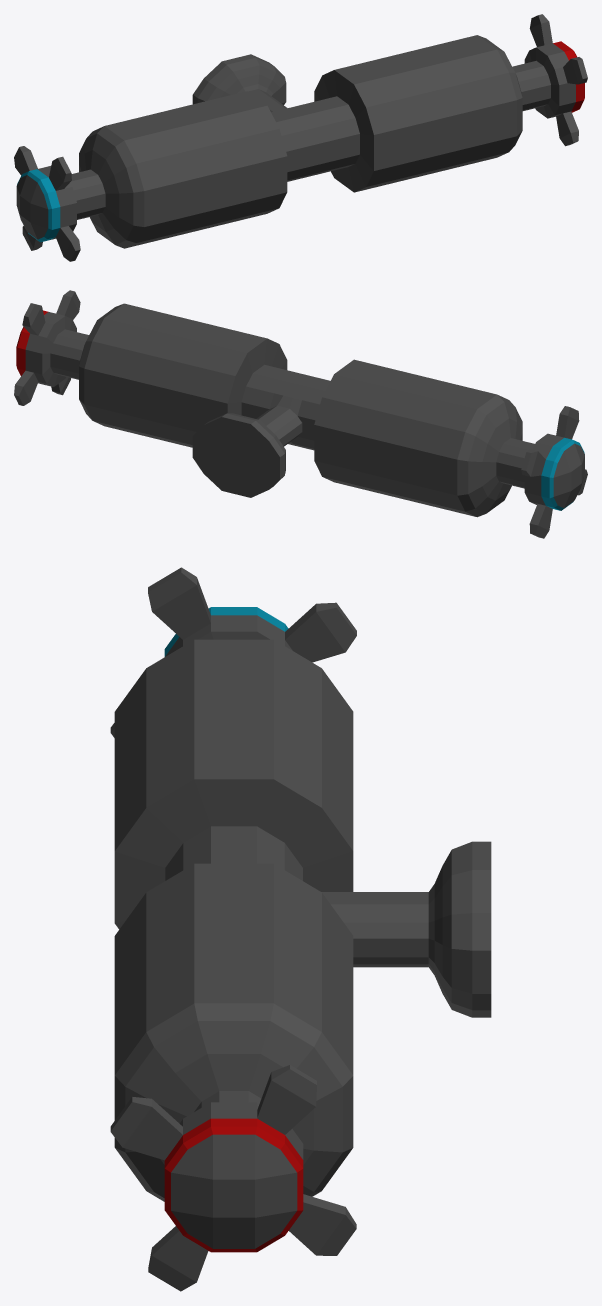
File: grifo_ducha.fbx
3 views of the same model, one above another, from view 1: azimuth 30°, elevation 25°; view 2: azimuth 150°, elevation 25°; view 3: azimuth 270°, elevation 25° (orthographic). The views are drawn at different scales.
Visible parts, largest first — view 1: showerTap:Mesh; view 2: showerTap:Mesh; view 3: showerTap:Mesh.
Part boxes in pixels (x1,y1,x2,y2): showerTap:Mesh: (14, 14, 587, 261); showerTap:Mesh: (14, 290, 587, 538); showerTap:Mesh: (110, 567, 491, 1291).
Bounding box in the file's own units: 25.14 × 4.89 × 7.52.
